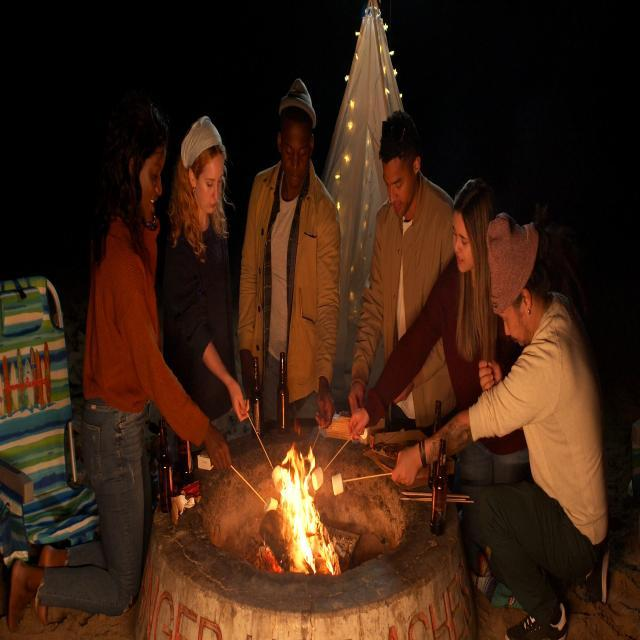Fire: (274, 440, 338, 576)
